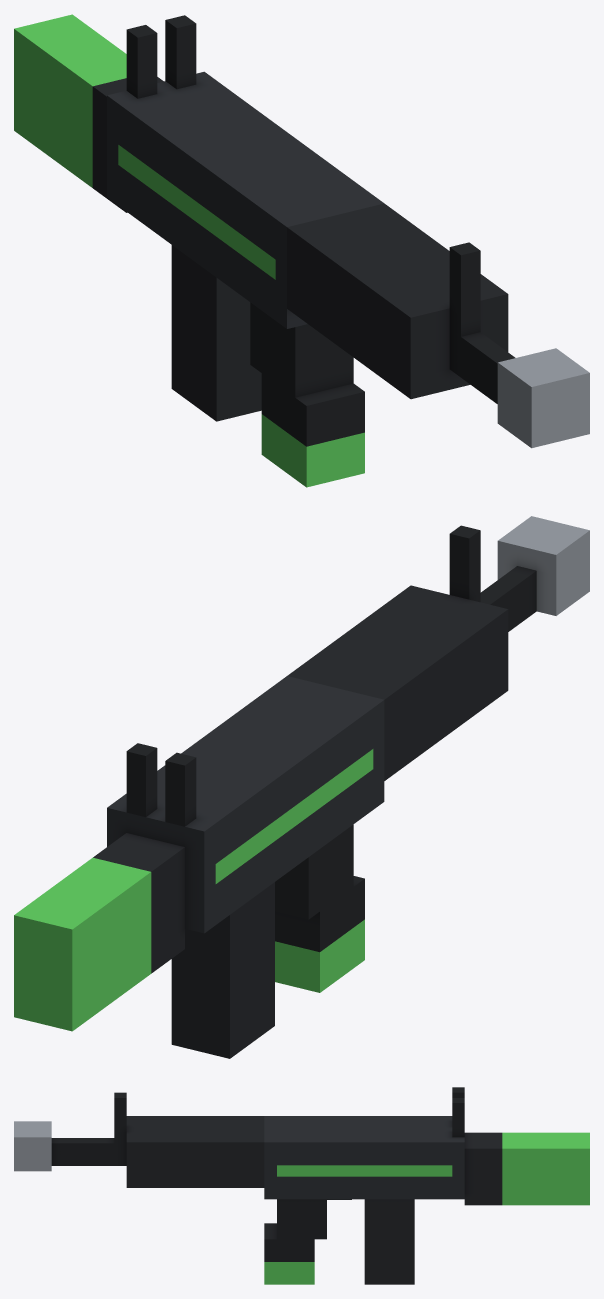
File: trailblazer_uncommon.glb
3 views of the same model, one above another, from view 1: azimuth 30°, elevation 25°; view 2: azimuth 150°, elevation 25°; view 3: azimuth 270°, elevation 25° (orthographic). The views are drawn at different scales.
Visible parts, largest first — view 1: trailblazer_uncommon_body; view 2: trailblazer_uncommon_body; view 3: trailblazer_uncommon_body.
Part boxes in pixels (x1,y1,x2,y2): trailblazer_uncommon_body: (14,14,589,487); trailblazer_uncommon_body: (14,516,589,1058); trailblazer_uncommon_body: (14,1087,589,1284).
Size of the model in its own units: 0.1953 by 0.625 by 1.8.
1 material, 1 textured.
